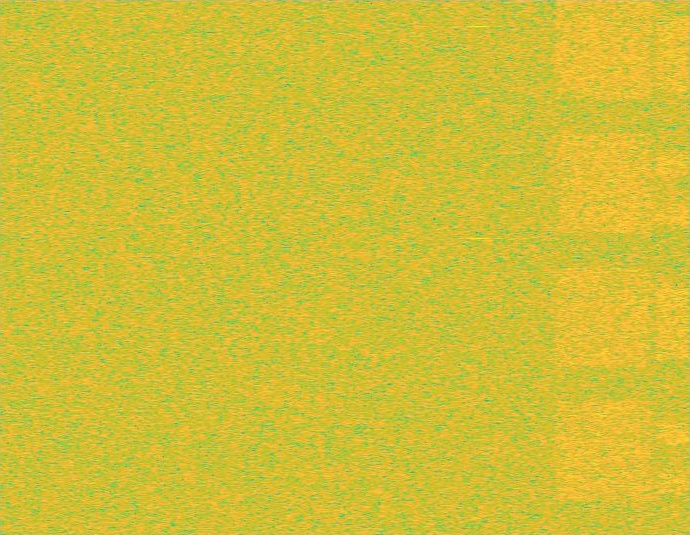5G: (552, 0, 656, 534)
LTE: (656, 0, 689, 534)
Radar: (472, 0, 486, 534)
